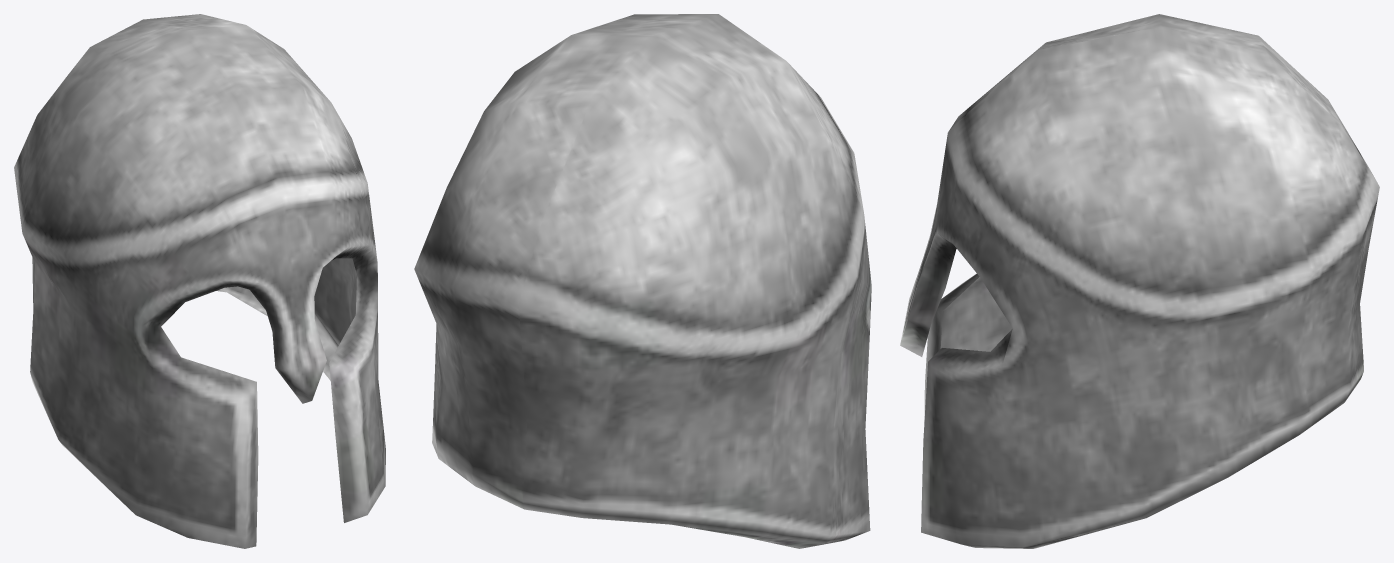
The model's file is helmet-mediuminfantry.glb.
3 views of the same model, side by side, from view 1: azimuth 30°, elevation 25°; view 2: azimuth 150°, elevation 25°; view 3: azimuth 270°, elevation 25° (orthographic). The views are drawn at different scales.
Size of the model in its own units: 0.2389 by 0.3358 by 0.3046.
1 material, 1 textured.
